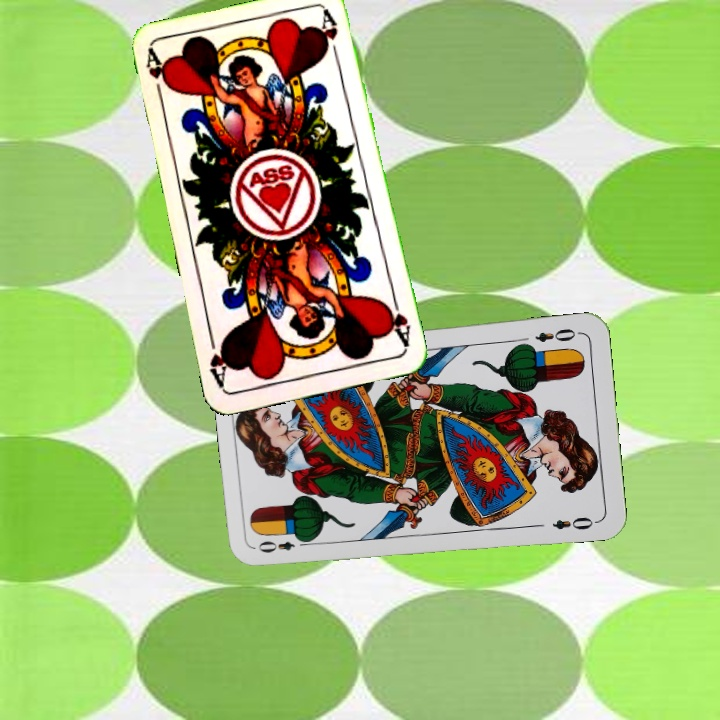EO: (254, 533, 312, 555), (531, 324, 583, 345)
HA: (381, 292, 413, 351), (142, 47, 174, 106)
